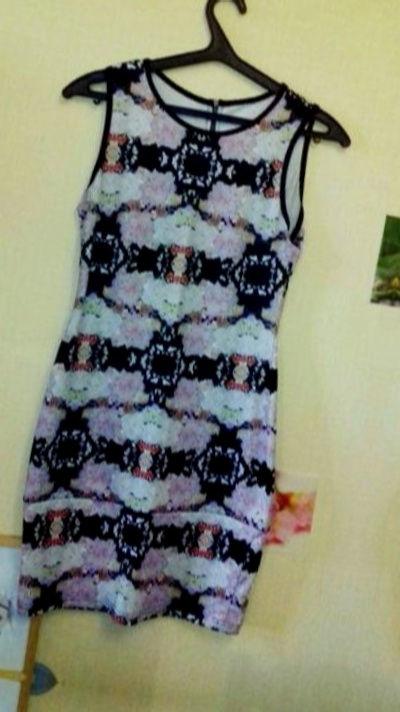Dress: (0, 1, 399, 677), (366, 68, 400, 712), (0, 706, 291, 712)
